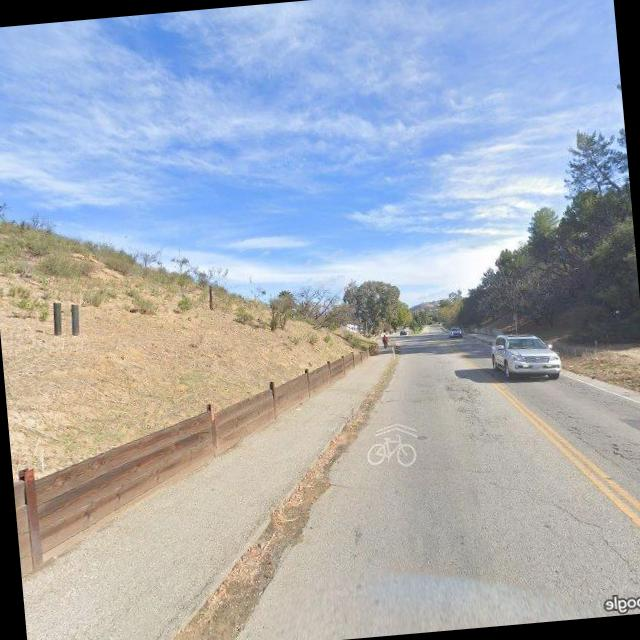crack: (545, 394, 640, 505), (444, 366, 500, 446)
pothole: (537, 487, 640, 592)
